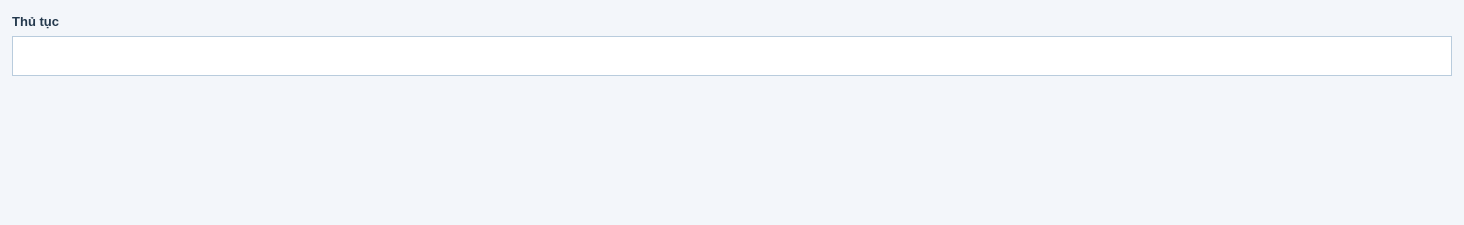
Combobox › Esc đóng danh sách; bấm chuột chọn được; Bỏ chọn trả về ô gõ
Click the dropdown.
click(732, 56)  # box [12,36,1452,76]
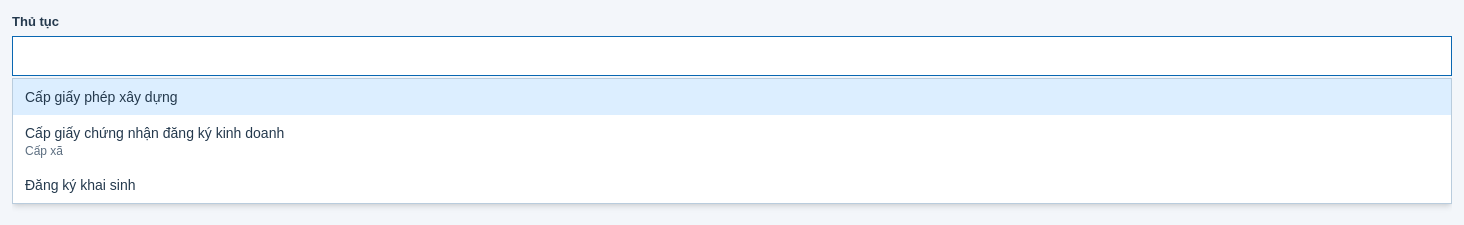
Expected: the list is shown, [12,78,1452,204]
Press Escape
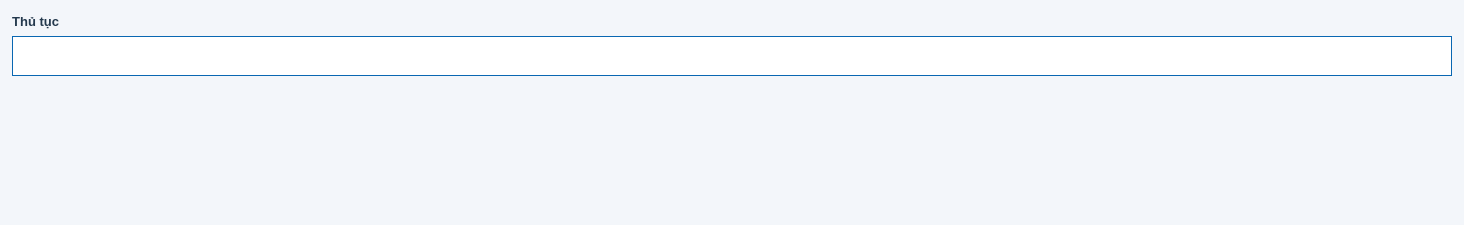
Expected: the list is gone
Type "đăng" into the dropdown.
click(732, 56); type("đăng")  # box [12,36,1452,76]
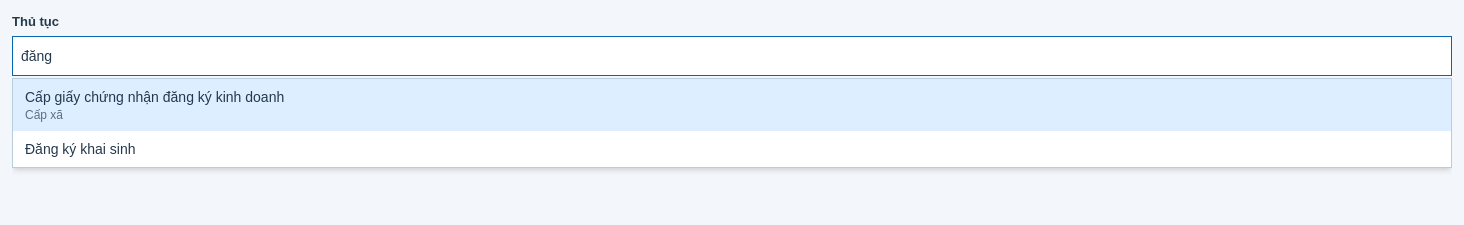
Click the option "Đăng ký khai sinh".
click(80, 149)  # box [25,141,136,157]
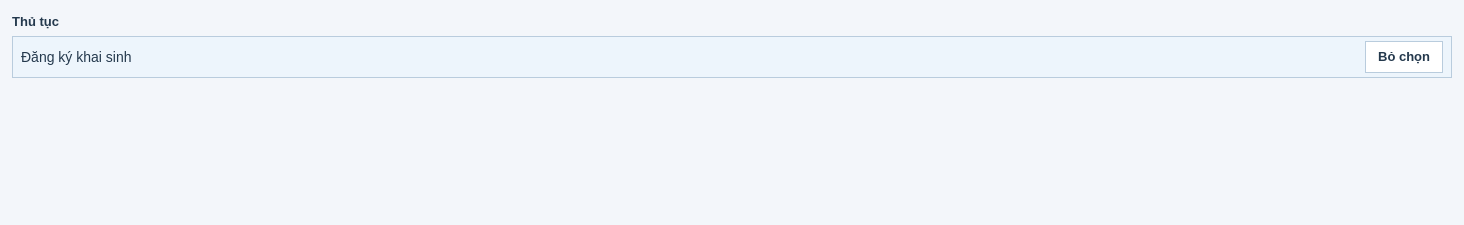
Click the button "Bỏ chọn".
click(1404, 57)  # box [1365,41,1443,73]
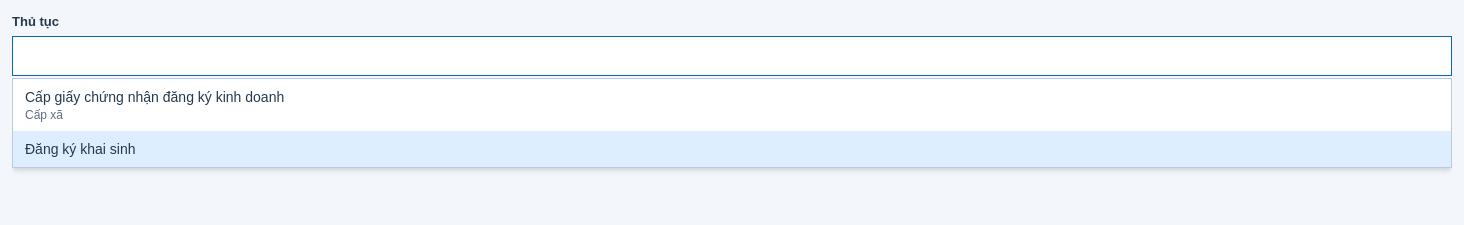
Expected: the dropdown is shown, [12,36,1452,76]
